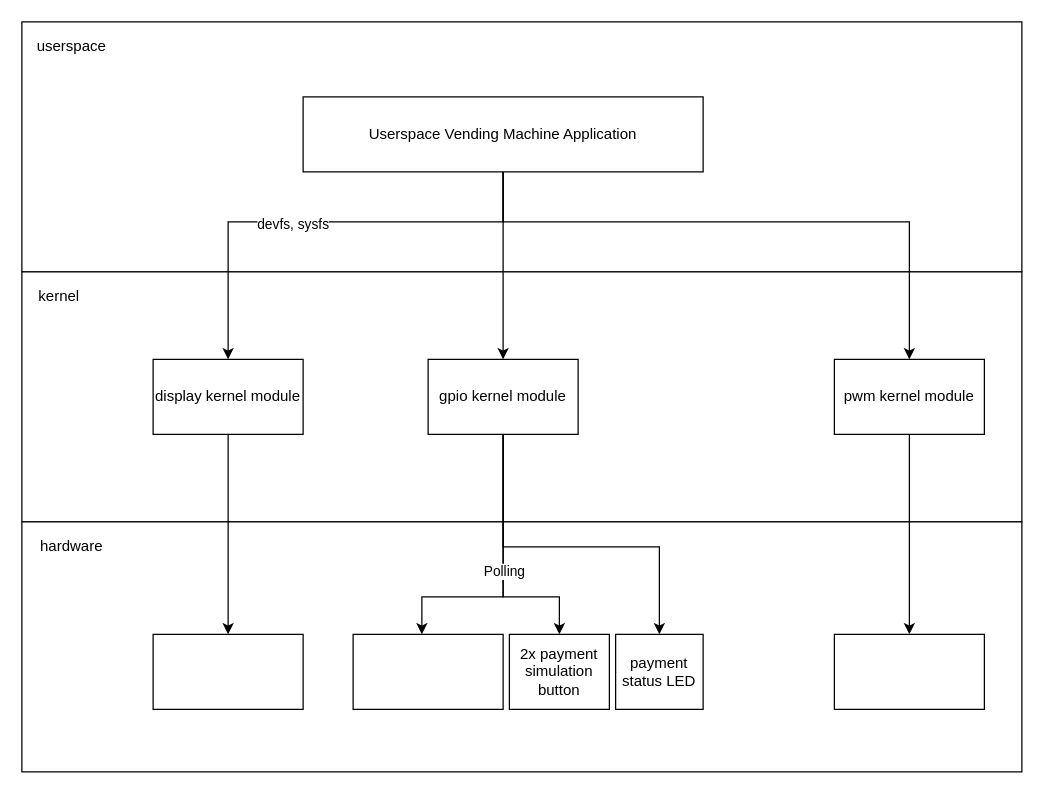
Image size: 1044x794. Some labels were removed from this diagram. Here are the shapes that lost their labels. From the top down, the box of each, then its label:
(152, 633, 303, 709): 8x 7segment display
(352, 633, 503, 709): 4x user choice button
(833, 633, 984, 709): motor for product dispensing
